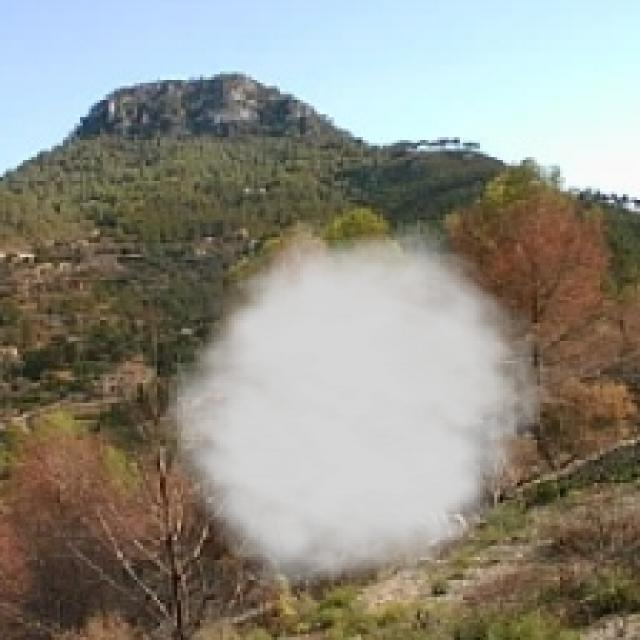Smoke: (148, 220, 560, 606)
